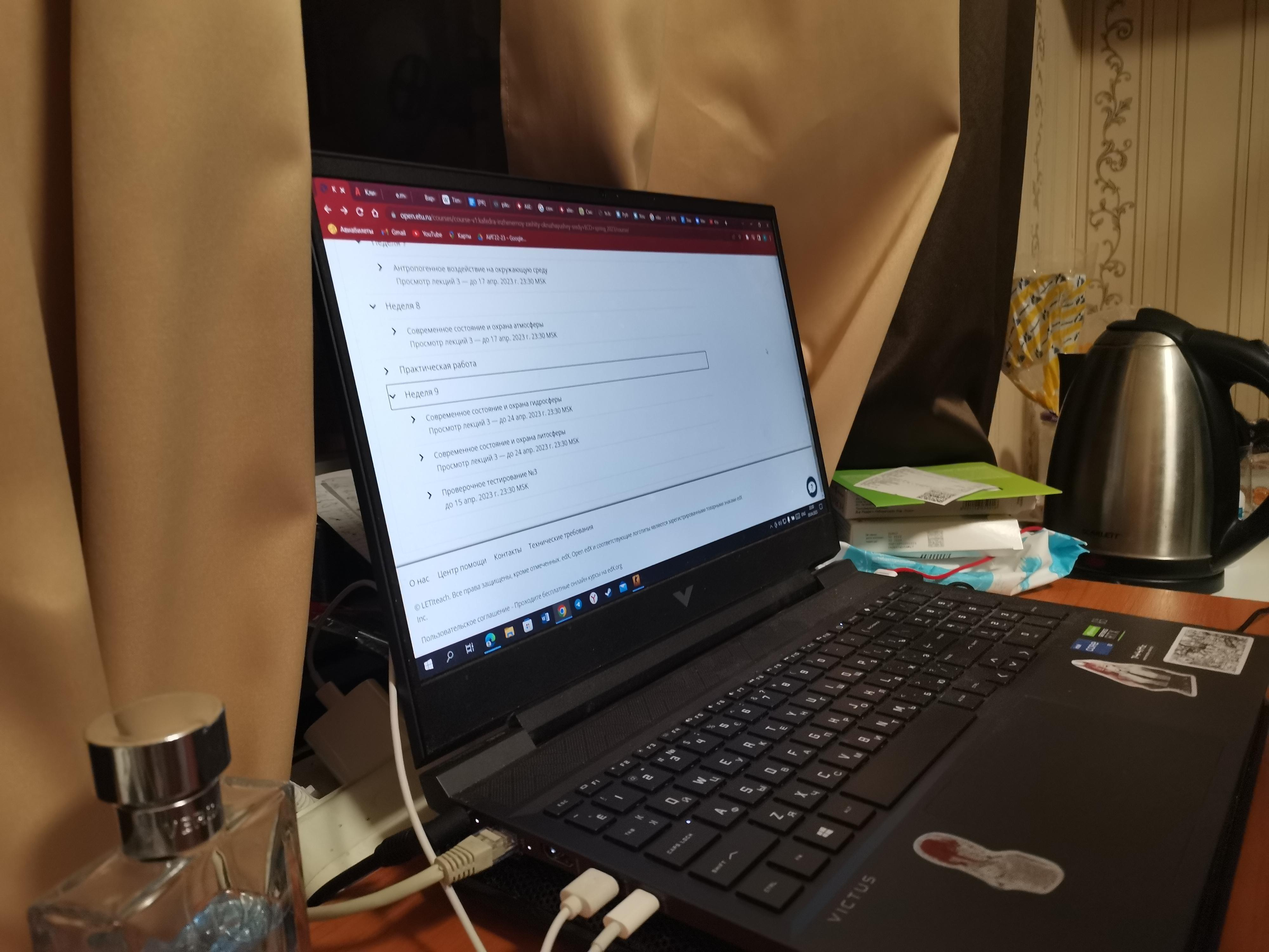monitor: (294, 144, 845, 770)
